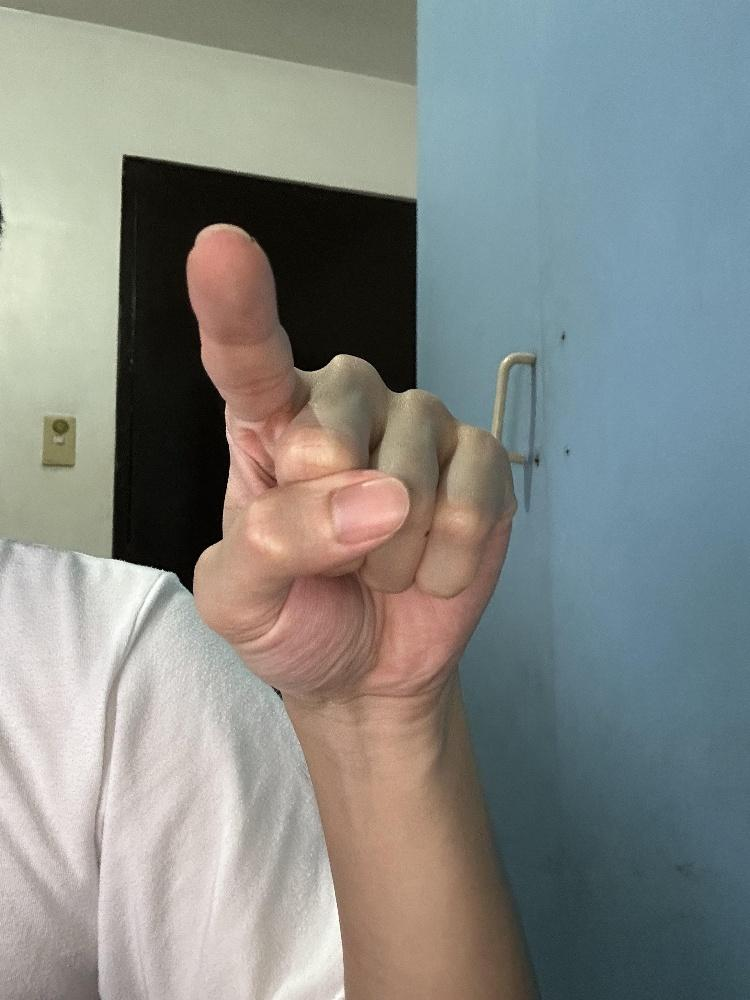z: (183, 217, 520, 716)
